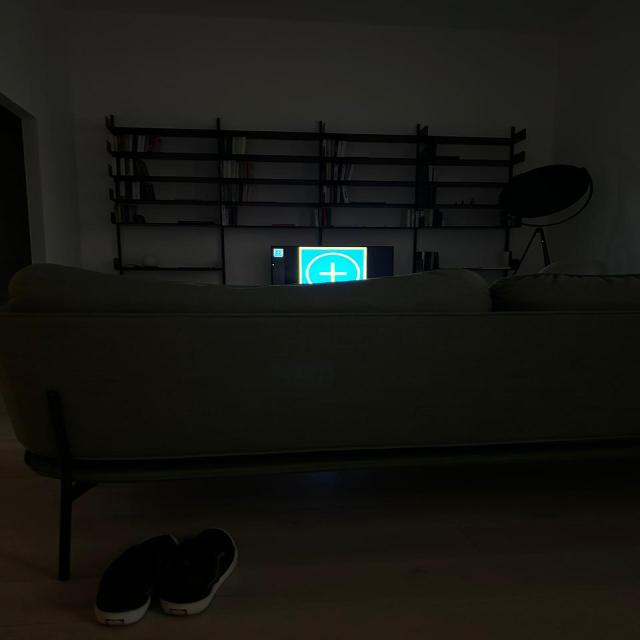Marker: (299, 247, 367, 284), (274, 249, 284, 256)
